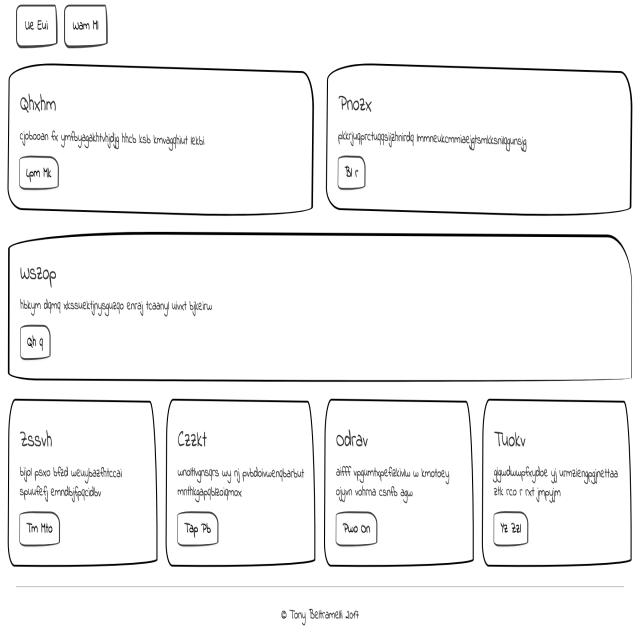Button: (8, 158, 68, 192), (332, 510, 386, 544), (19, 517, 66, 554), (177, 512, 220, 550), (338, 158, 374, 195), (496, 514, 528, 548), (17, 330, 54, 352)
Card: (6, 242, 634, 384), (6, 65, 314, 219), (325, 64, 632, 216), (8, 396, 162, 577), (168, 406, 318, 572), (328, 402, 473, 565), (483, 403, 627, 564)
Footer: (0, 581, 640, 640)
Heading 6: (19, 85, 68, 124), (492, 422, 542, 457), (169, 416, 215, 454), (336, 80, 380, 118), (17, 260, 62, 289), (336, 424, 381, 452), (21, 426, 55, 458)
Navigation Bar: (10, 11, 111, 44)
Paragraph: (14, 125, 212, 161), (482, 456, 625, 502), (338, 119, 542, 150), (13, 456, 132, 509), (177, 459, 311, 504), (333, 459, 467, 502), (15, 297, 230, 313)
